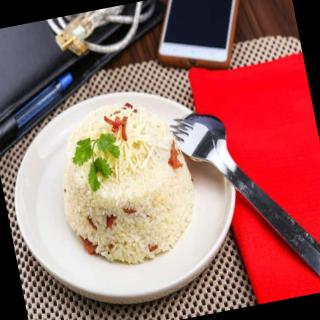Nasi: (44, 89, 208, 277)
